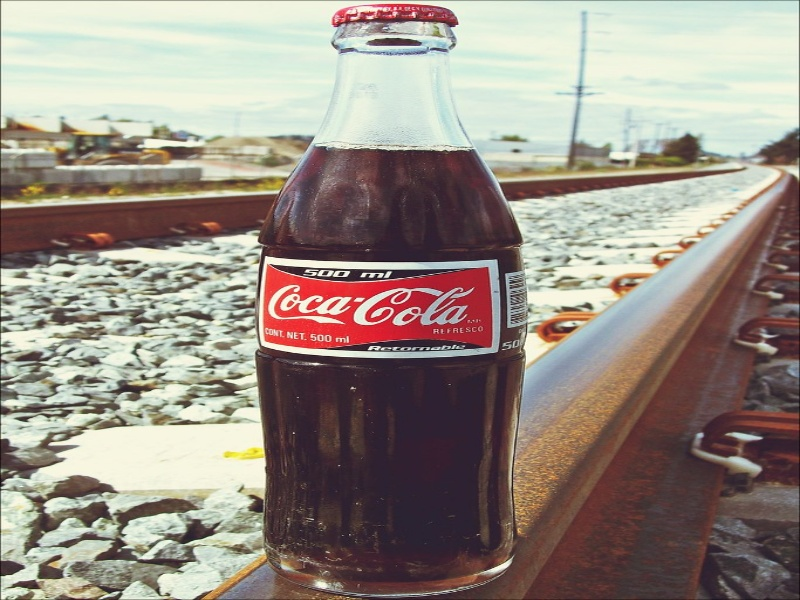Glass bottle: (219, 1, 558, 600)
